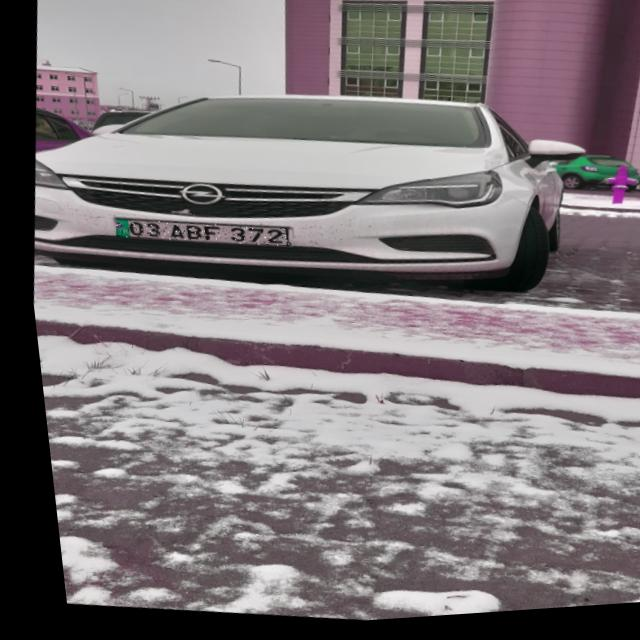license_plate: (109, 211, 287, 259)
